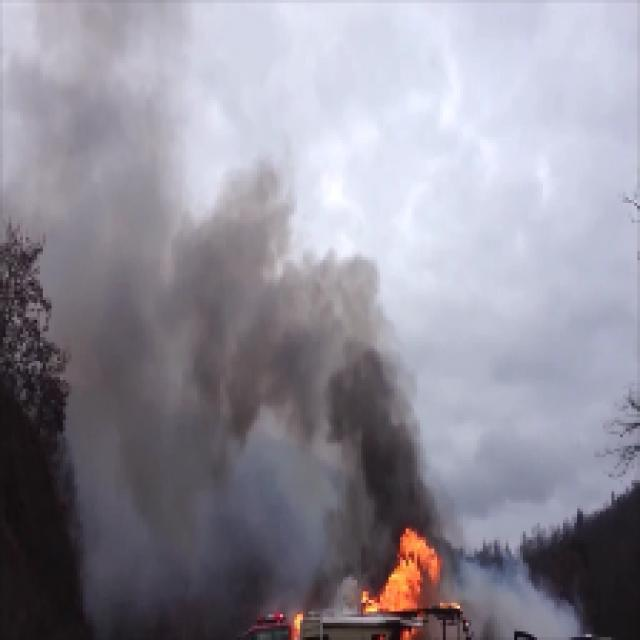Fire: (383, 536, 436, 606)
Smoke: (230, 257, 370, 389), (334, 402, 424, 509)
